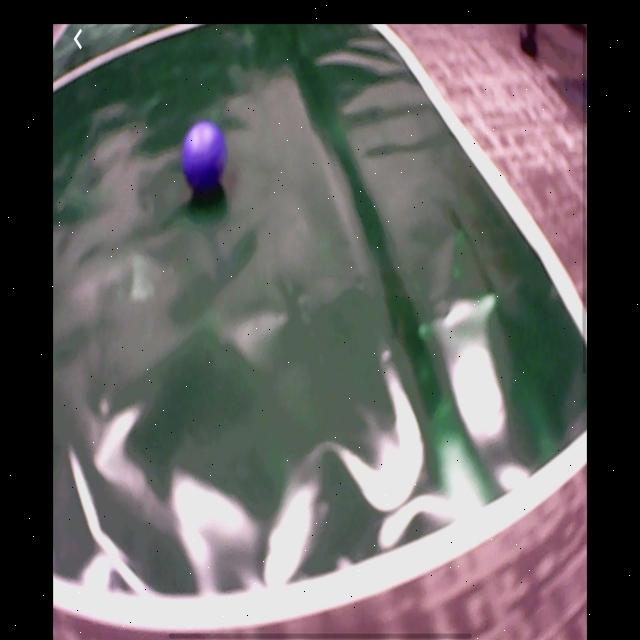ball: (182, 121, 228, 191)
